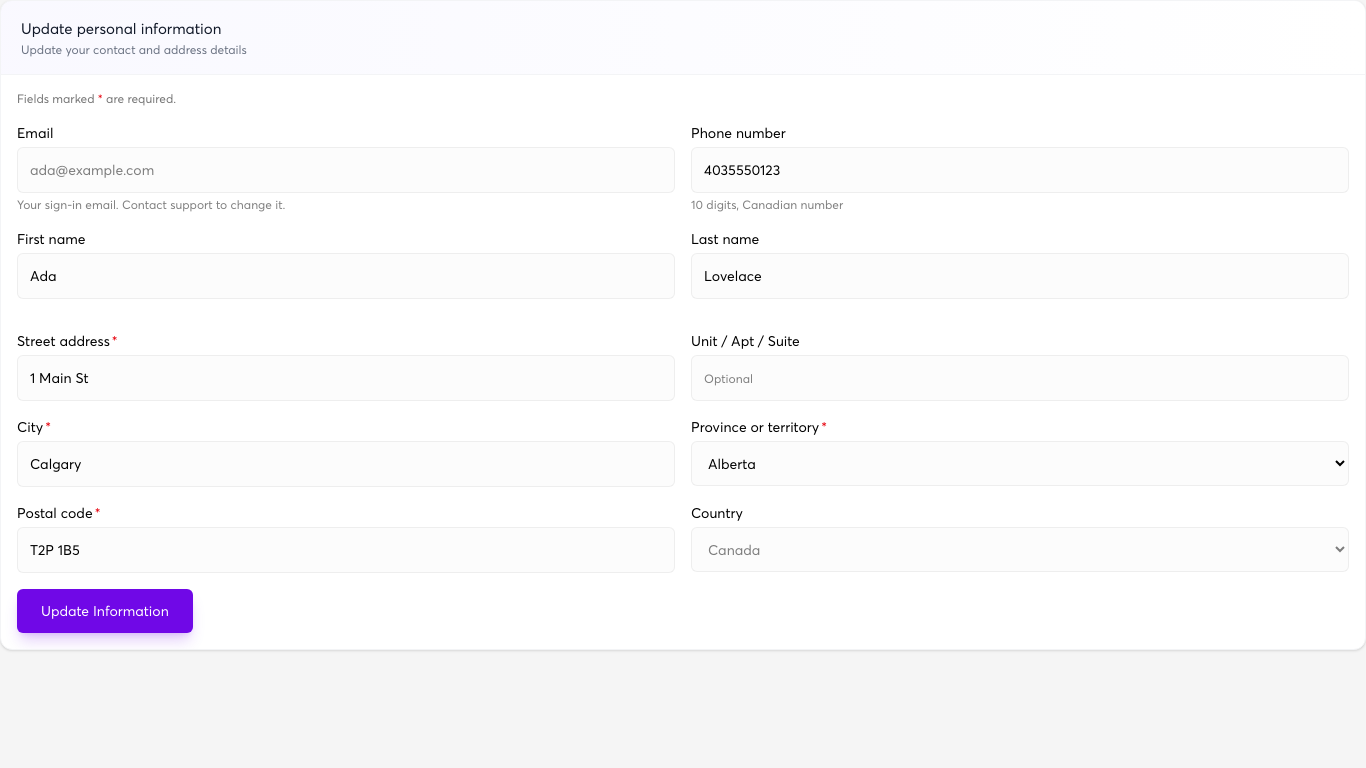
Test: Update personal information (QA C-12) › rejects digits in names and an over-long phone instead of trimming it
Replace the text in the field labelled "First name" with "Ada2": (346, 276) [17,252,675,298]
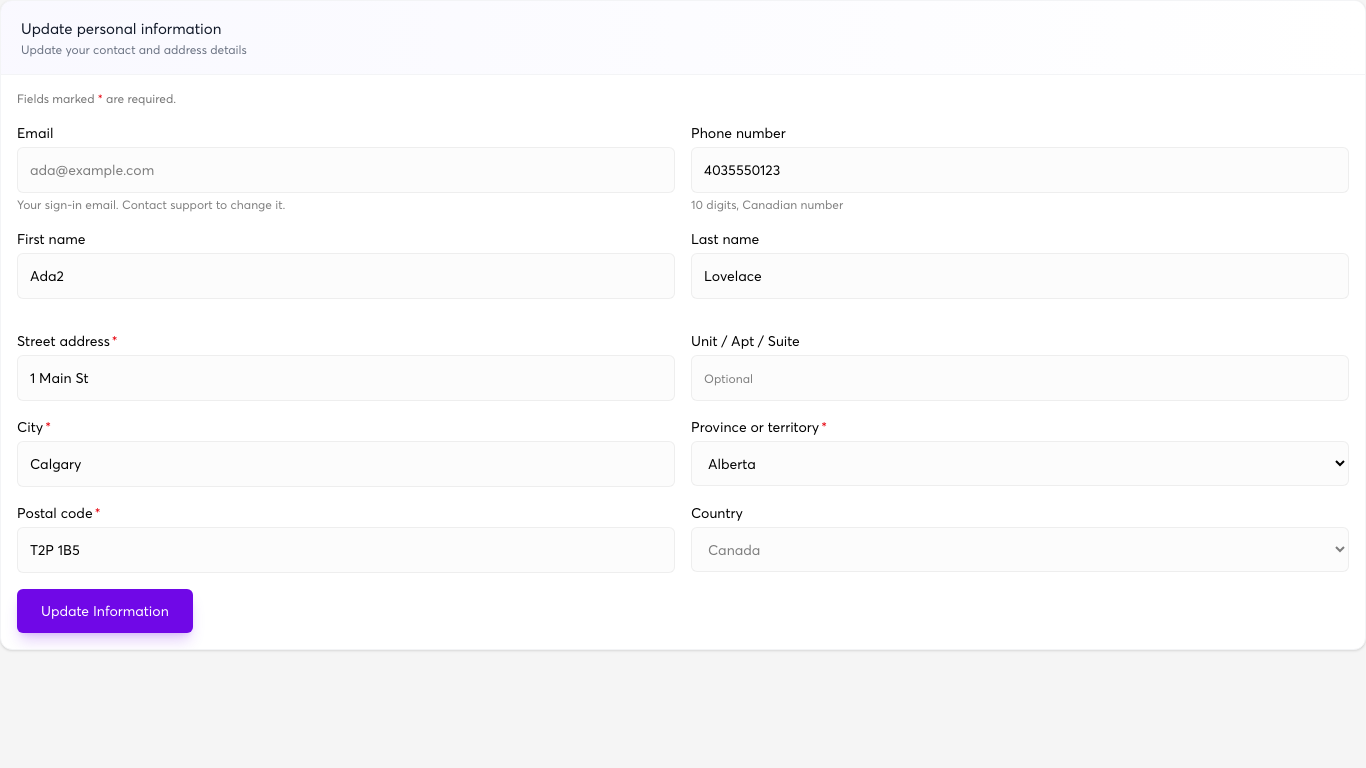
Replace the text in the field labelled "Phone number" with "403555012345": (1020, 170) [691,146,1349,192]
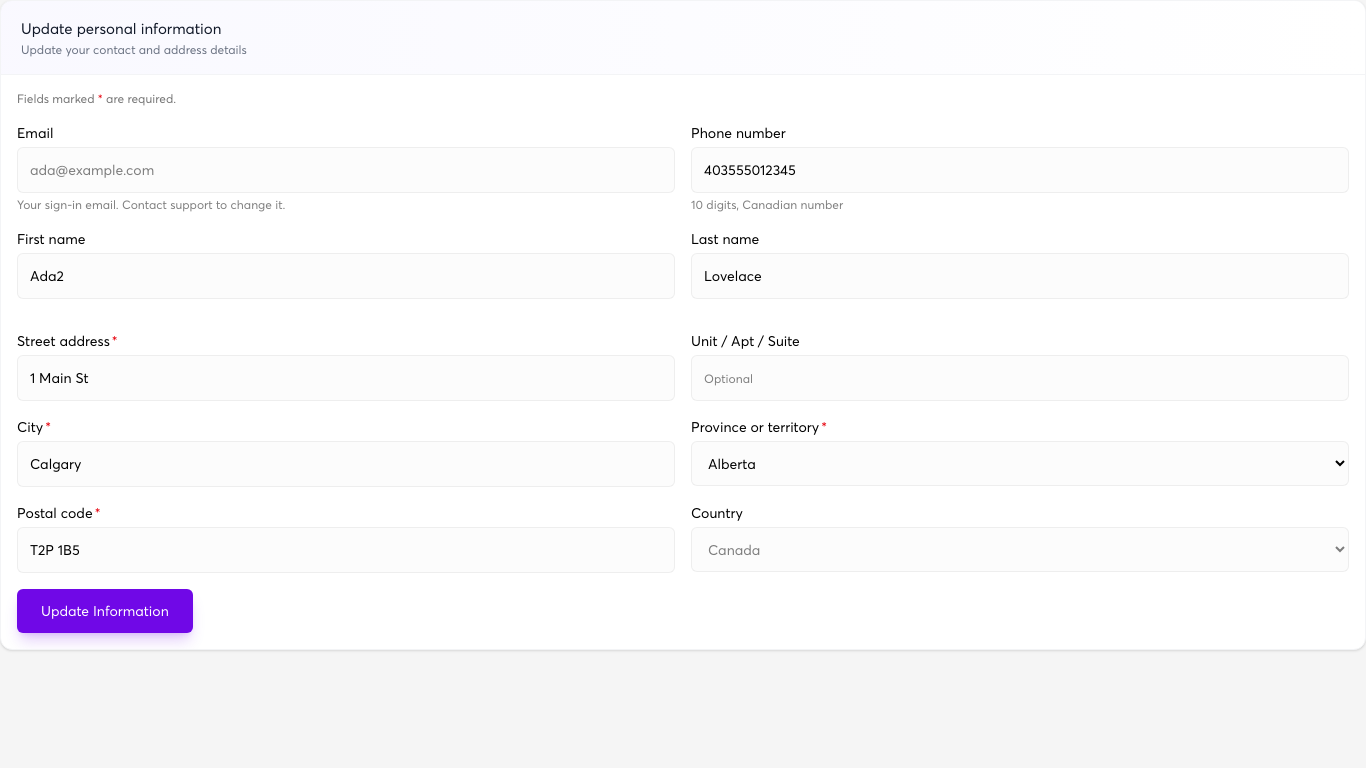
Click the button "Update Information": click(105, 610) [17,588,193,632]
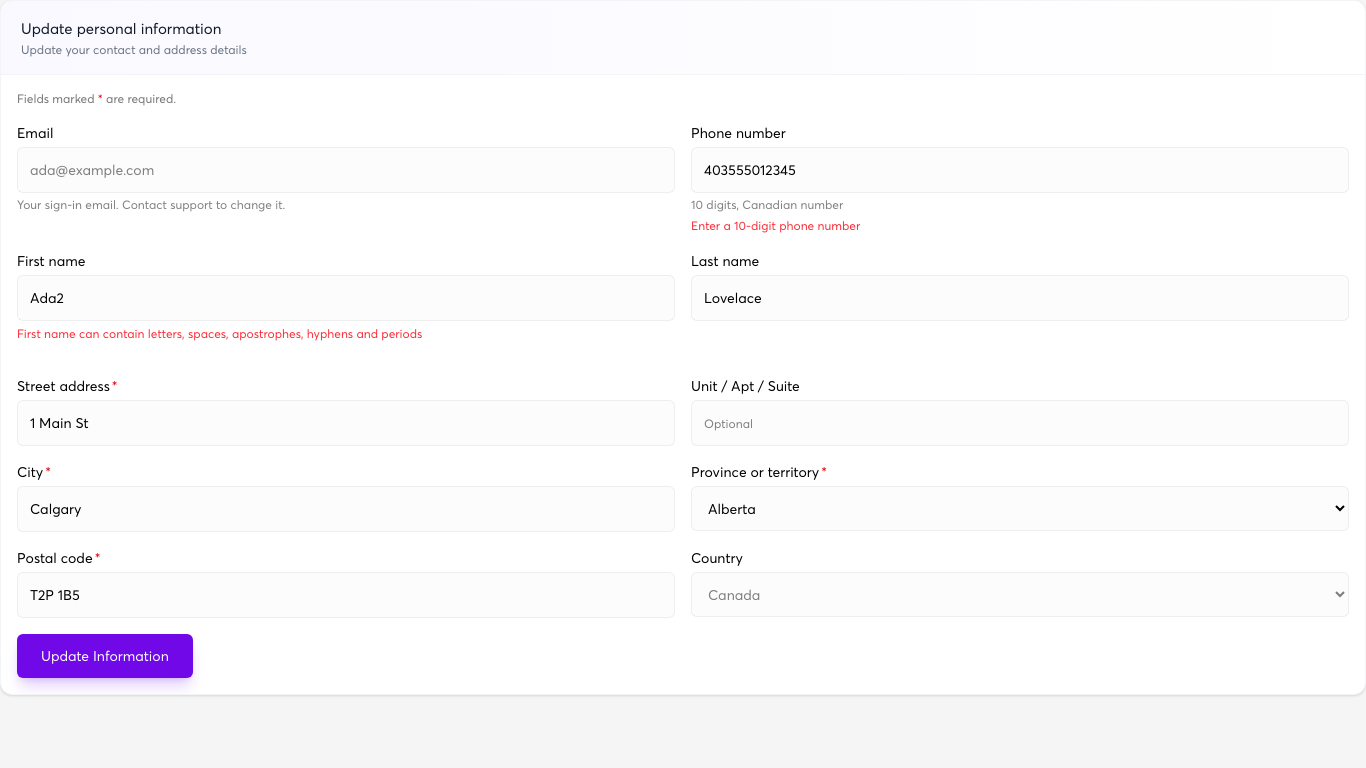
Expected: the text "First name can contain letters" is shown, [17,326,422,341]
Expected: the text "Enter a 10-digit phone number" is shown, [691,218,860,232]
